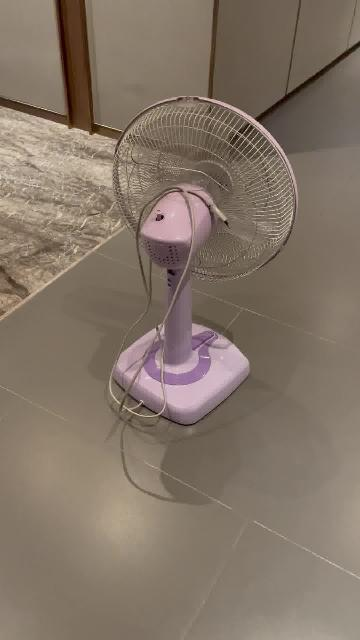Fan: (112, 96, 298, 427)
